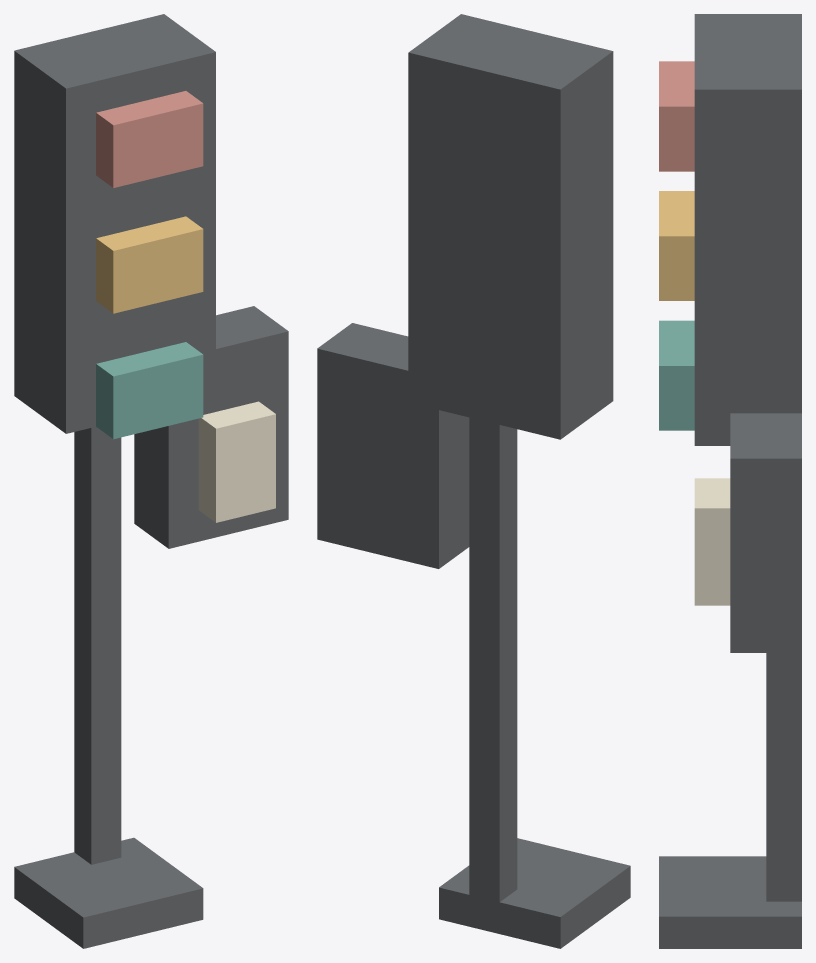
The model's file is pocket-borough-traffic-signal__289.glb.
3 views of the same model, side by side, from view 1: azimuth 30°, elevation 25°; view 2: azimuth 150°, elevation 25°; view 3: azimuth 270°, elevation 25° (orthographic). The views are drawn at different scales.
Parts seen in each view (by area): view 1: pocket-borough-traffic-signal; view 2: pocket-borough-traffic-signal; view 3: pocket-borough-traffic-signal.
Part boxes in pixels (left/top/right/bottom): pocket-borough-traffic-signal: left=14, top=14, right=288, bottom=948; pocket-borough-traffic-signal: left=317, top=14, right=630, bottom=948; pocket-borough-traffic-signal: left=659, top=14, right=801, bottom=948.
Size of the model in its own units: 1 by 3.38 by 0.5.
